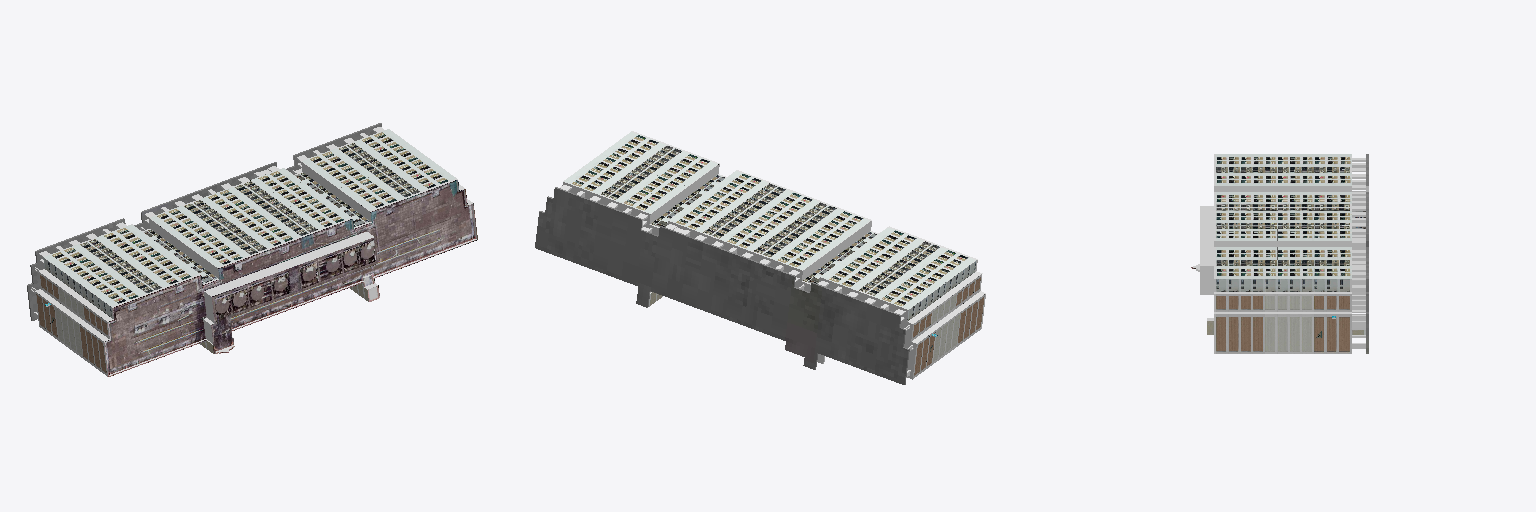
The picture shows the model from 3 angles: view 1: azimuth 30°, elevation 25°; view 2: azimuth 150°, elevation 25°; view 3: azimuth 270°, elevation 25°; orthographic projection.
Parts seen in each view (by area): view 1: polygon.832; view 2: polygon.832; view 3: polygon.832.
Part boxes in pixels (x1,y1,x2,y2): polygon.832: (27,123,477,376); polygon.832: (535,131,985,384); polygon.832: (1191,154,1368,353).
Size of the model in its own units: 96.58 by 29.01 by 39.08.
1 materials, 1 textured.